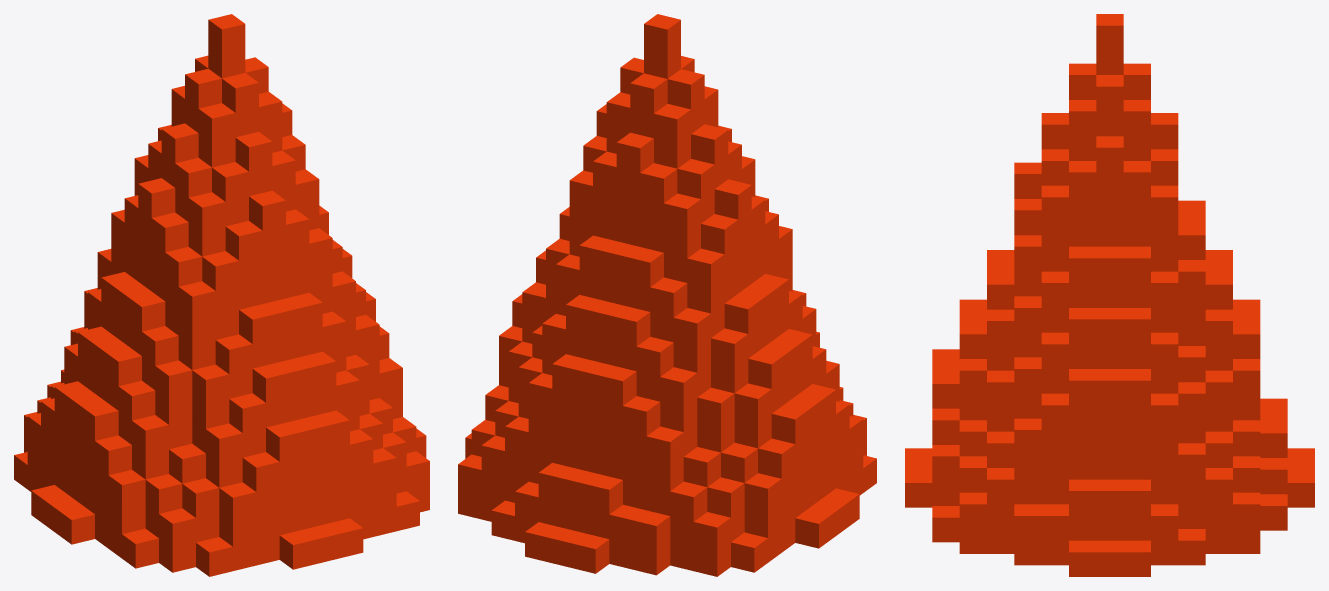
The model's file is Obstacle.fbx.
3 renders of one model, left to right at view 1: azimuth 30°, elevation 25°; view 2: azimuth 150°, elevation 25°; view 3: azimuth 270°, elevation 25°, orthographic.
Parts seen in each view (by area): view 1: ObjObject; view 2: ObjObject; view 3: ObjObject.
Part boxes in pixels (x1,y1,x2,y2): ObjObject: [14, 14, 429, 576]; ObjObject: [458, 14, 876, 576]; ObjObject: [905, 14, 1314, 576].
Bounding box in the file's own units: 150 × 190 × 150.
1 material, 1 textured.
